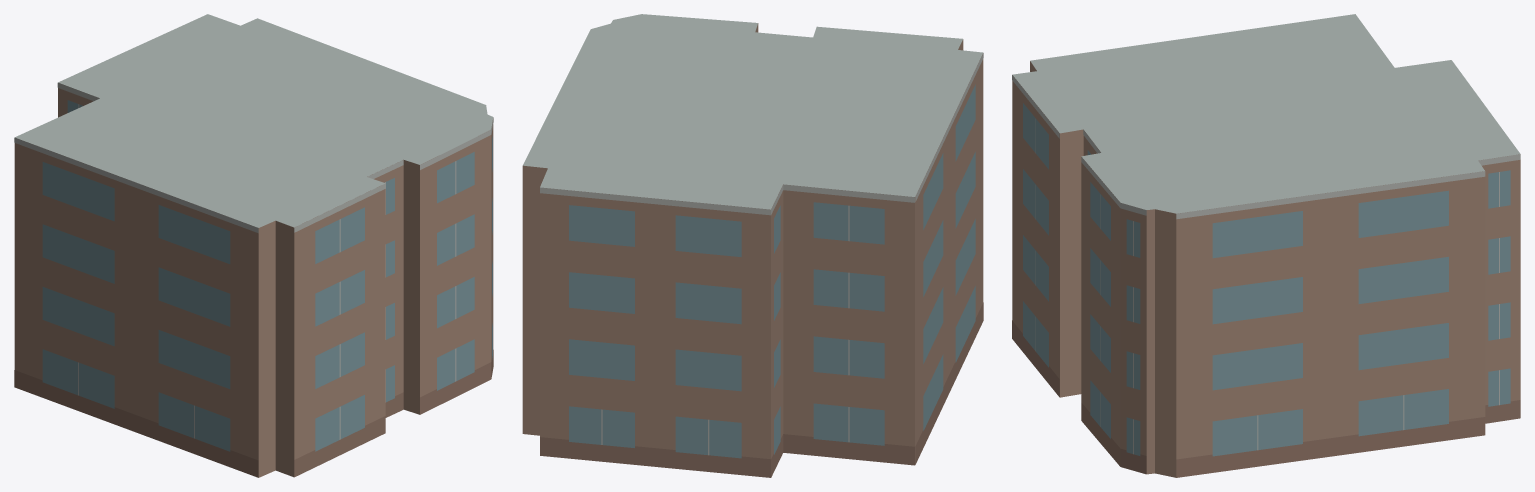
Rendered from survey-upis-33044800.glb.
3 renders of one model, left to right at view 1: azimuth 30°, elevation 25°; view 2: azimuth 150°, elevation 25°; view 3: azimuth 270°, elevation 25°, orthographic. The views are drawn at different scales.
Parts seen in each view (by area): view 1: survey-upis-33044800.tmp; view 2: survey-upis-33044800.tmp; view 3: survey-upis-33044800.tmp.
Boxes of the visible parts, x1=… form: survey-upis-33044800.tmp: x1=14, y1=14, x2=493, y2=477; survey-upis-33044800.tmp: x1=522, y1=14, x2=983, y2=477; survey-upis-33044800.tmp: x1=1012, y1=14, x2=1520, y2=477.
Size of the model in its own units: 18.48 by 11.4 by 19.89.
